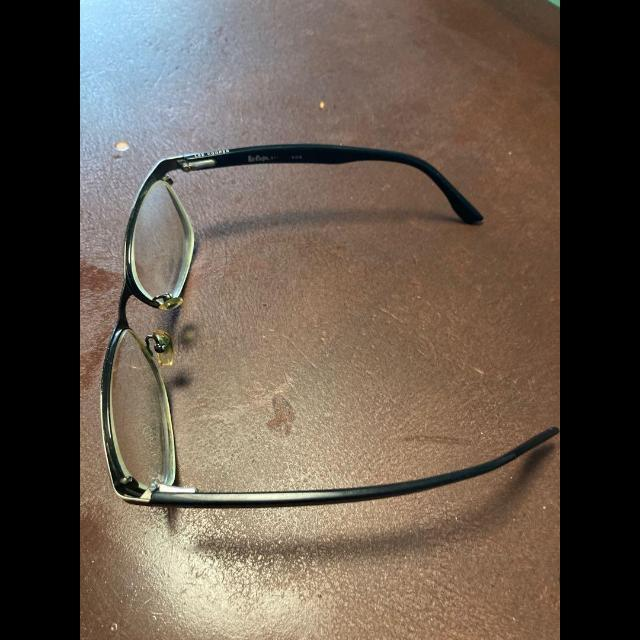mask: (100, 139, 560, 505)
